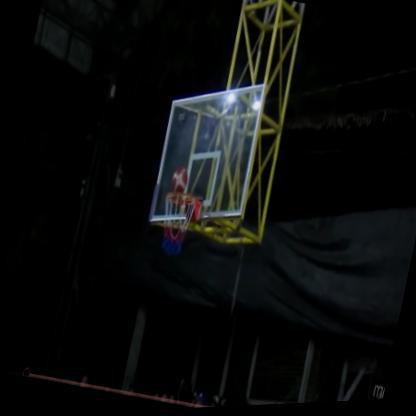basketball: (165, 169, 189, 203)
rim: (149, 185, 202, 269)
